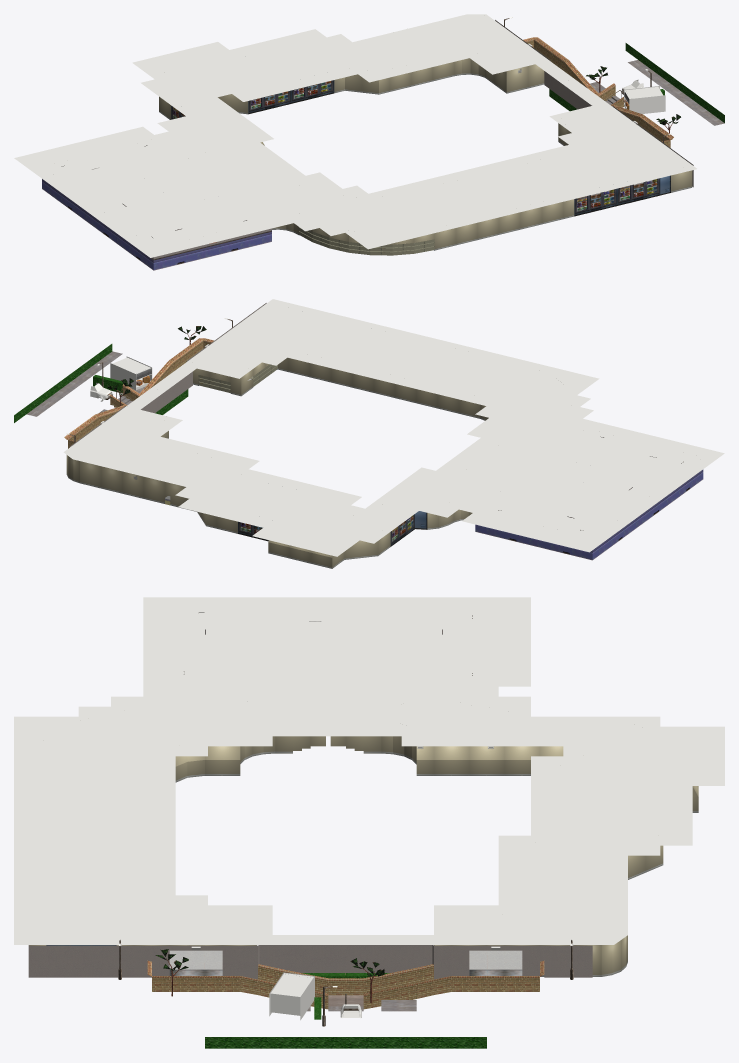
The model's file is asdf.obj.
3 views of the same model, one above another, from view 1: azimuth 30°, elevation 25°; view 2: azimuth 150°, elevation 25°; view 3: azimuth 270°, elevation 25° (orthographic). The views are drawn at different scales.
Visible parts, largest first — view 1: market2_w_market2_w_Material_001_NONE, market2_w_market2_w_Material_001_market2f_bmp, market2_w_market2_w_Material_001_market2i_bmp, market2_w_market2_w_Material_001_market2j_bmp, market2_w_market2_w_Material_001_market2d_bmp, market2_w_market2_w_Material_001_market2g_bmp, market2_w_market2_w_Material_001_market2c_bmp; view 2: market2_w_market2_w_Material_001_NONE, market2_w_market2_w_Material_001_market2f_bmp, market2_w_market2_w_Material_001_market2j_bmp, market2_w_market2_w_Material_001_market2i_bmp, market2_w_market2_w_Material_001_market2c_bmp, market2_w_market2_w_Material_001_market2d_bmp, market2_w_market2_w_Material_001_market2g_bmp; view 3: market2_w_market2_w_Material_001_NONE, market2_w_market2_w_Material_001_market2i_bmp, market2_w_market2_w_Material_001_market2j_bmp, market2_w_market2_w_Material_001_market2f_bmp, market2_w_market2_w_Material_001, market2_w_market2_w_Material_001_market2h_bmp.
Part boxes in pixels (<box>): market2_w_market2_w_Material_001_NONE: <box>14,14,696,257</box>; market2_w_market2_w_Material_001_market2f_bmp: <box>159,58,692,250</box>; market2_w_market2_w_Material_001_market2i_bmp: <box>42,18,693,270</box>; market2_w_market2_w_Material_001_market2j_bmp: <box>523,37,724,147</box>; market2_w_market2_w_Material_001_market2d_bmp: <box>171,80,670,216</box>; market2_w_market2_w_Material_001_market2g_bmp: <box>92,102,629,255</box>; market2_w_market2_w_Material_001_market2c_bmp: <box>590,60,724,125</box>; market2_w_market2_w_Material_001_NONE: <box>63,299,724,556</box>; market2_w_market2_w_Material_001_market2f_bmp: <box>66,357,488,568</box>; market2_w_market2_w_Material_001_market2j_bmp: <box>14,326,213,448</box>; market2_w_market2_w_Material_001_market2i_bmp: <box>69,303,703,560</box>; market2_w_market2_w_Material_001_market2c_bmp: <box>26,351,145,416</box>; market2_w_market2_w_Material_001_market2d_bmp: <box>238,511,427,546</box>; market2_w_market2_w_Material_001_market2g_bmp: <box>136,364,656,457</box>; market2_w_market2_w_Material_001_NONE: <box>14,597,724,1020</box>; market2_w_market2_w_Material_001_market2i_bmp: <box>28,612,592,1026</box>; market2_w_market2_w_Material_001_market2j_bmp: <box>147,949,544,1048</box>; market2_w_market2_w_Material_001_market2f_bmp: <box>28,736,698,976</box>; market2_w_market2_w_Material_001: <box>169,950,522,969</box>; market2_w_market2_w_Material_001_market2h_bmp: <box>169,969,522,975</box>.
Bounding box in the file's own units: 277 × 18.21 × 202.
Materials: 11 (11 with a texture image).
